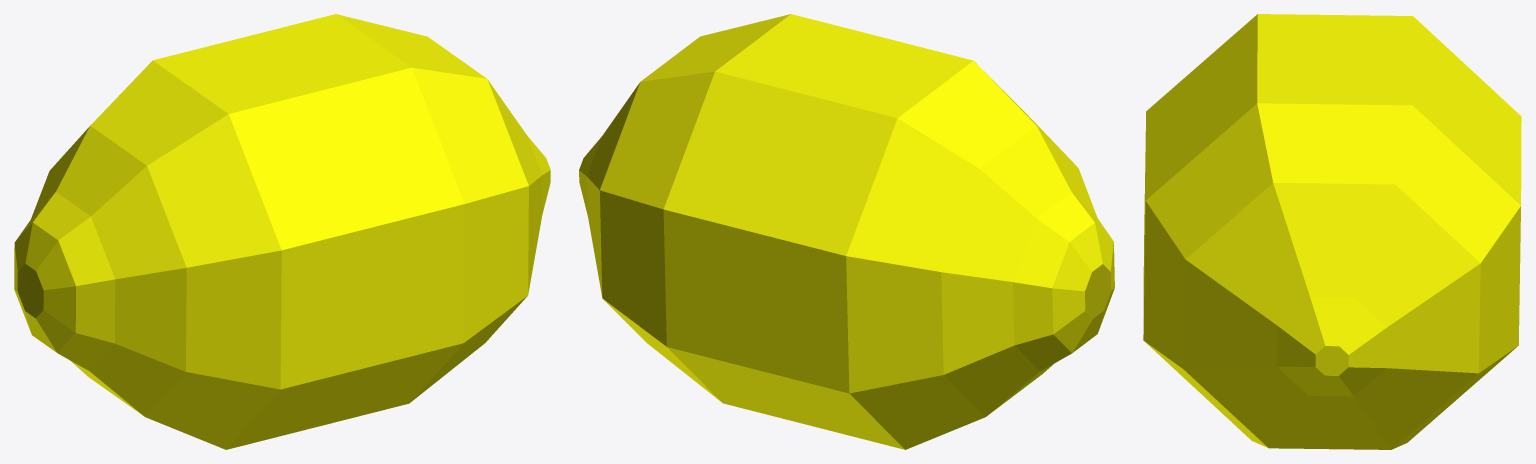
The model's file is lemon01.gltf.
3 views of the same model, side by side, from view 1: azimuth 30°, elevation 25°; view 2: azimuth 150°, elevation 25°; view 3: azimuth 270°, elevation 25° (orthographic). The views are drawn at different scales.
Parts seen in each view (by area): view 1: Cylinder; view 2: Cylinder; view 3: Cylinder.
Part boxes in pixels (bbox=[...]): Cylinder: bbox=[14, 14, 550, 449]; Cylinder: bbox=[579, 14, 1114, 449]; Cylinder: bbox=[1143, 14, 1521, 449].
Size of the model in its own units: 0.0849 by 0.0533 by 0.0531.
Materials: 1 (1 with a texture image).
